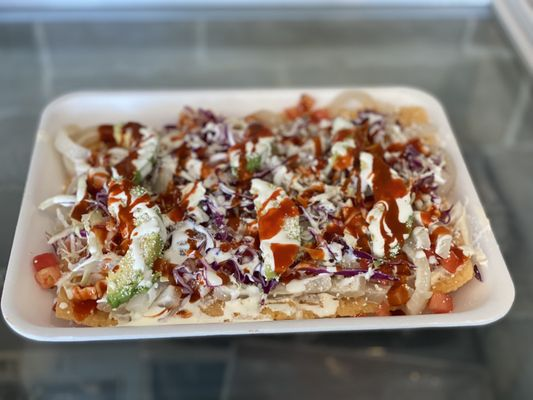curry: (105, 204, 168, 309)
